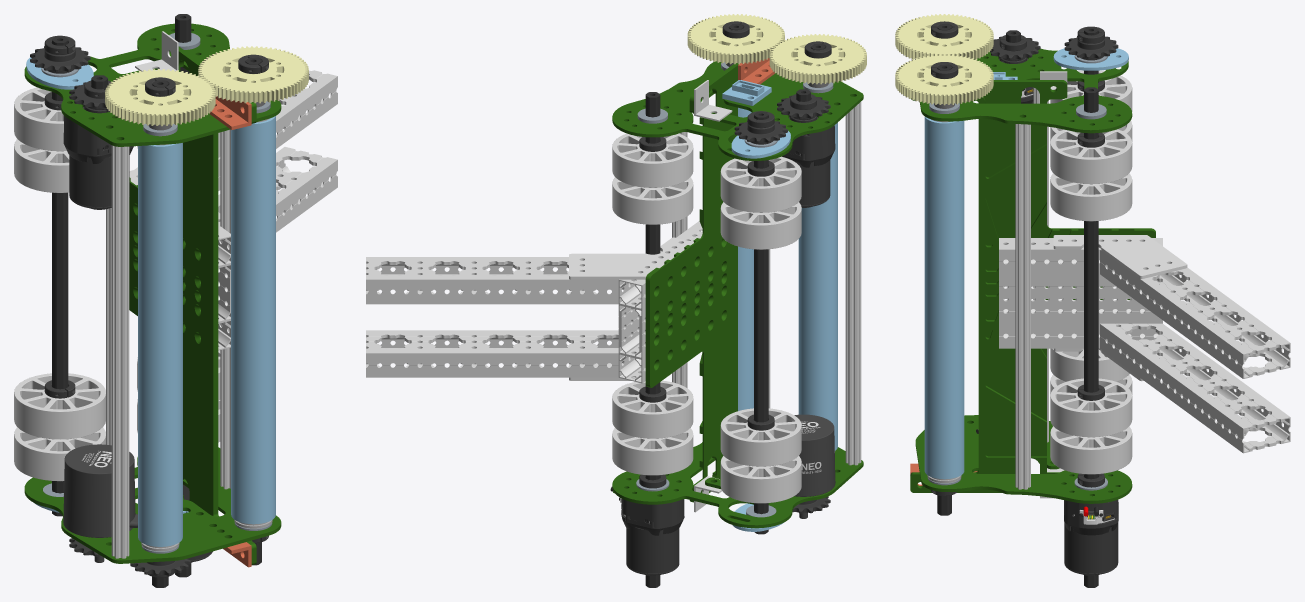
3 views of the same model, side by side, from view 1: azimuth 30°, elevation 25°; view 2: azimuth 150°, elevation 25°; view 3: azimuth 270°, elevation 25° (orthographic). The views are drawn at different scales.
Visible parts, largest first — view 1: rubber tube (×2), Base plate, Side plate (×2), am-3946 3IN 500Hex Molded Compliant Wheel VER 2 (×4), 1/2 Churro X 14.8525" Long (×3), 70t 20dp Aluminum 1/2" Hex Bore Versakey Gear (217-3224) (×2), Angled piece (×2), NEO Brushless Motor (REV-21-1650), Shaft (×2), 15t 1/2" Hex Bore 35 Chain Steel Hub Sprocket (217-5844) (×3), REV-21-1652-P08, angle stock (×2) (+5 smaller); view 2: am-3946 3IN 500Hex Molded Compliant Wheel VER 2 (×8), Angled piece (×2), Base plate, Side plate (×2), rubber tube (×2), 70t 20dp Aluminum 1/2" Hex Bore Versakey Gear (217-3224) (×2), 1/2 Churro X 14.8525" Long, Shaft (×2), REV-21-1652-P08 (×2), MAXTube, 1x1x47" (×3), shooter gusset, NEO Brushless Motor (REV-21-1650) (+5 smaller); view 3: Angled piece (×2), Base plate, am-3946 3IN 500Hex Molded Compliant Wheel VER 2 (×6), rubber tube, Side plate (×2), MAXTube, 1x1x47" (×3), 70t 20dp Aluminum 1/2" Hex Bore Versakey Gear (217-3224) (×2), 1/2 Churro X 14.8525" Long, Shaft, shooter gusset, REV-21-1652-P08, 15t 1/2" Hex Bore 35 Chain Steel Hub Sprocket (217-5844) (×2) (+3 smaller).
Part boxes in pixels (left/top/right/bottom): rubber tube (×2): left=138, top=116, right=275, bottom=546; Base plate: left=129, top=46, right=256, bottom=564; Side plate (×2): left=24, top=23, right=281, bottom=563; am-3946 3IN 500Hex Molded Compliant Wheel VER 2 (×4): left=14, top=87, right=105, bottom=481; 1/2 Churro X 14.8525" Long (×3): left=106, top=129, right=230, bottom=558; 70t 20dp Aluminum 1/2" Hex Bore Versakey Gear (217-3224) (×2): left=105, top=46, right=308, bottom=126; Angled piece (×2): left=218, top=70, right=337, bottom=232; NEO Brushless Motor (REV-21-1650): left=63, top=444, right=137, bottom=562; Shaft (×2): left=52, top=14, right=191, bottom=577; 15t 1/2" Hex Bore 35 Chain Steel Hub Sprocket (217-5844) (×3): left=30, top=46, right=190, bottom=575; REV-21-1652-P08: left=69, top=155, right=129, bottom=208; angle stock (×2): left=209, top=96, right=251, bottom=567; am-3946 3IN 500Hex Molded Compliant Wheel VER 2 (×8): left=612, top=133, right=801, bottom=503; Angled piece (×2): left=366, top=257, right=635, bottom=377; Base plate: left=645, top=63, right=738, bottom=502; Side plate (×2): left=612, top=61, right=863, bottom=528; rubber tube (×2): left=738, top=107, right=837, bottom=450; 70t 20dp Aluminum 1/2" Hex Bore Versakey Gear (217-3224) (×2): left=687, top=14, right=866, bottom=84; 1/2 Churro X 14.8525" Long: left=845, top=101, right=861, bottom=465; Shaft (×2): left=645, top=92, right=768, bottom=587; REV-21-1652-P08 (×2): left=626, top=160, right=830, bottom=575; MAXTube, 1x1x47" (×3): left=618, top=221, right=702, bottom=383; shooter gusset: left=569, top=237, right=693, bottom=279; NEO Brushless Motor (REV-21-1650): left=794, top=414, right=835, bottom=518; Angled piece (×2): left=1100, top=249, right=1290, bottom=453; Base plate: left=910, top=80, right=1155, bottom=492; am-3946 3IN 500Hex Molded Compliant Wheel VER 2 (×6): left=1050, top=70, right=1132, bottom=474; rubber tube: left=924, top=116, right=964, bottom=479; Side plate (×2): left=915, top=48, right=1132, bottom=503; MAXTube, 1x1x47" (×3): left=999, top=238, right=1162, bottom=348; 70t 20dp Aluminum 1/2" Hex Bore Versakey Gear (217-3224) (×2): left=895, top=14, right=993, bottom=105; 1/2 Churro X 14.8525" Long: left=1015, top=124, right=1030, bottom=489; Shaft: left=1084, top=87, right=1098, bottom=587; shooter gusset: left=1053, top=235, right=1187, bottom=278; REV-21-1652-P08: left=1064, top=523, right=1118, bottom=574; 15t 1/2" Hex Bore 35 Chain Steel Hub Sprocket (217-5844) (×2): left=990, top=36, right=1118, bottom=61.
Bounding box in the file's own units: 0.385 × 0.526 × 0.3676.
